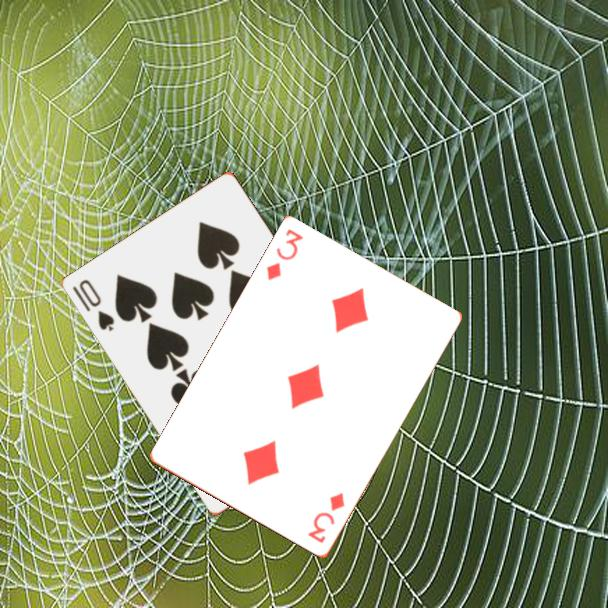d03: (304, 489, 348, 547), (263, 226, 306, 284)
s10: (69, 276, 118, 334)
